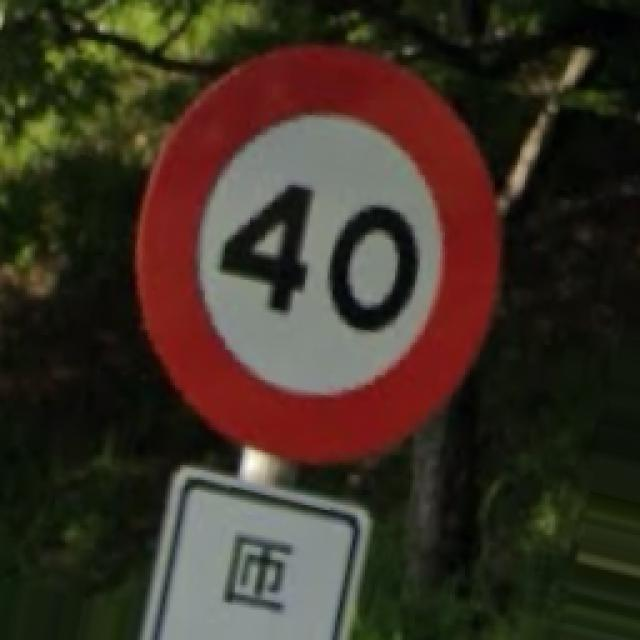Speed Limit -40-: (138, 48, 495, 460)
